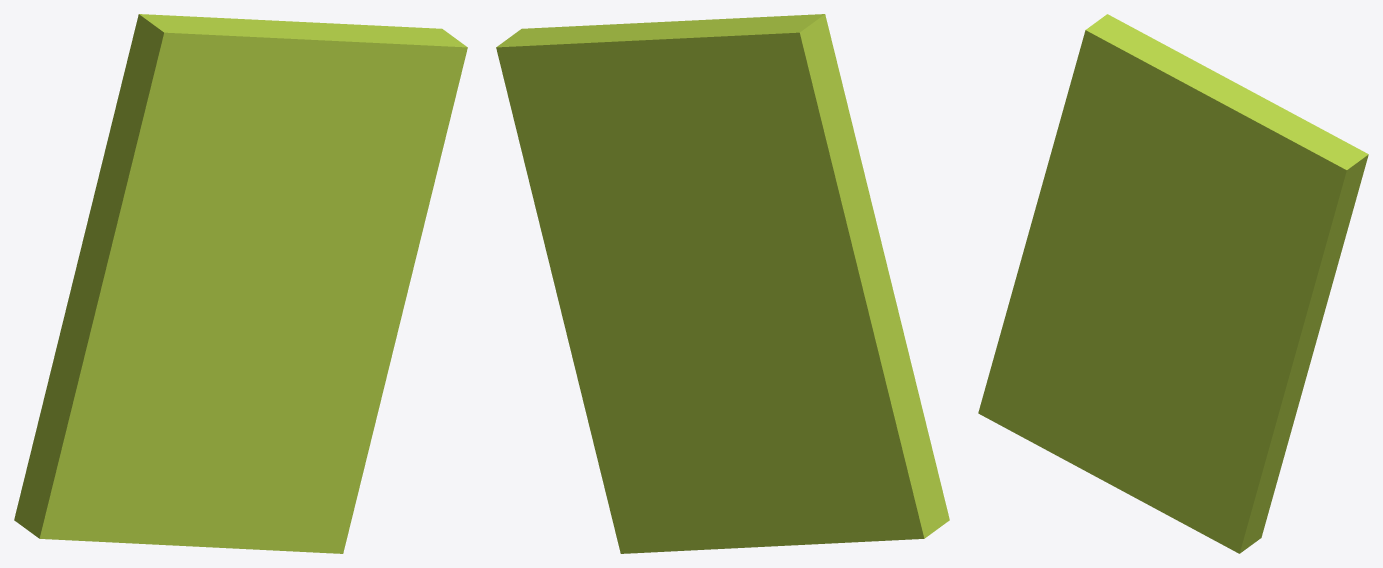
3 views of the same model, side by side, from view 1: azimuth 30°, elevation 25°; view 2: azimuth 150°, elevation 25°; view 3: azimuth 330°, elevation 25° (orthographic). The views are drawn at different scales.
Parts seen in each view (by area): view 1: osm-way27917482-F-1; view 2: osm-way27917482-F-1; view 3: osm-way27917482-F-1.
Part boxes in pixels (<box>): osm-way27917482-F-1: <box>14,14,467,553</box>; osm-way27917482-F-1: <box>496,14,949,553</box>; osm-way27917482-F-1: <box>978,14,1368,553</box>.
Bounding box in the file's own units: 1.46 × 1.83 × 0.15.
